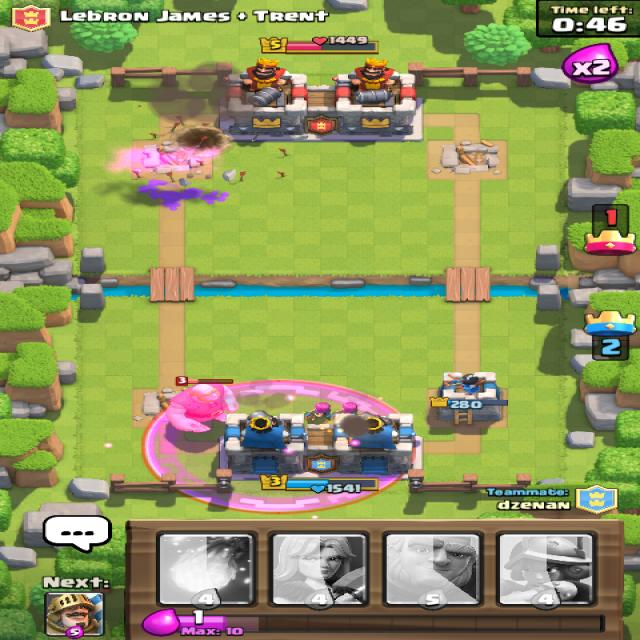Enemy-Giant: (163, 375, 237, 433)
Player-Archer: (302, 402, 334, 421), (331, 402, 360, 418)
